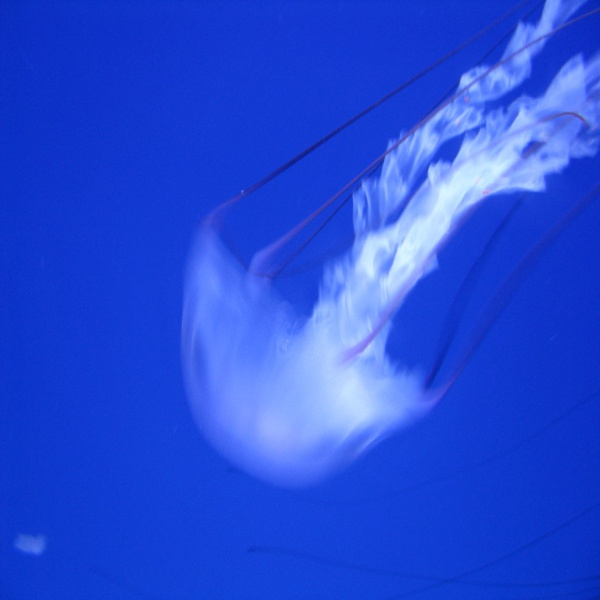Jellyfish: (169, 0, 596, 506)
